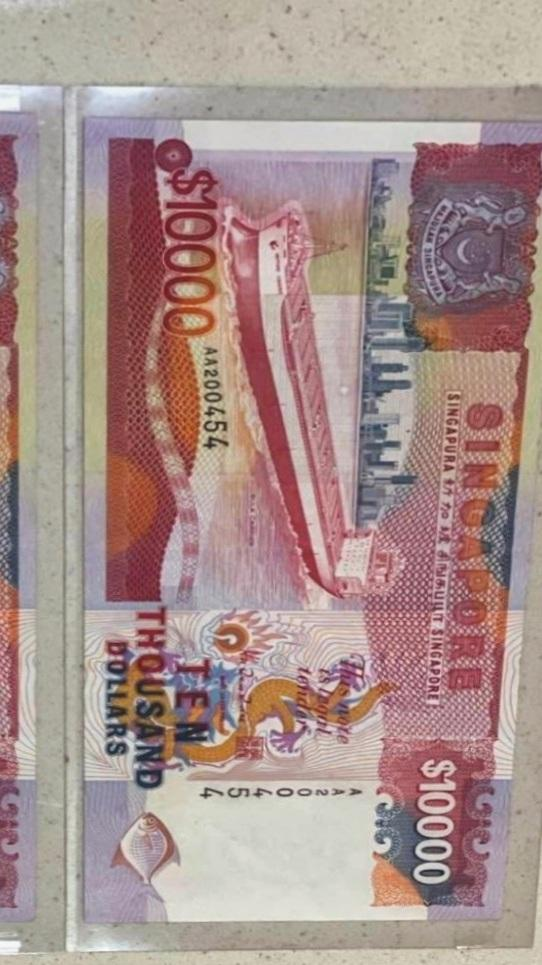10000SingaporeDollar: (90, 126, 518, 922)
